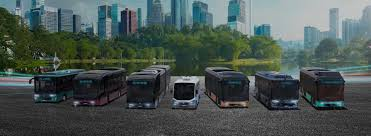bus: (204, 65, 251, 109), (74, 68, 126, 107), (298, 66, 345, 109), (126, 63, 169, 109), (253, 71, 300, 111), (29, 69, 74, 104), (171, 76, 200, 110)
